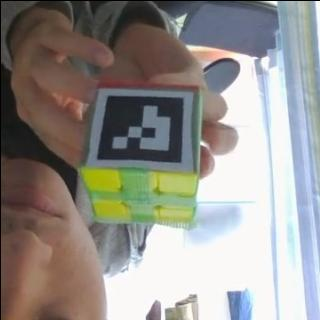armor: (82, 86, 197, 170)
robot: (78, 82, 204, 226)
